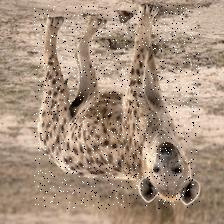hyena: (34, 5, 200, 209)
